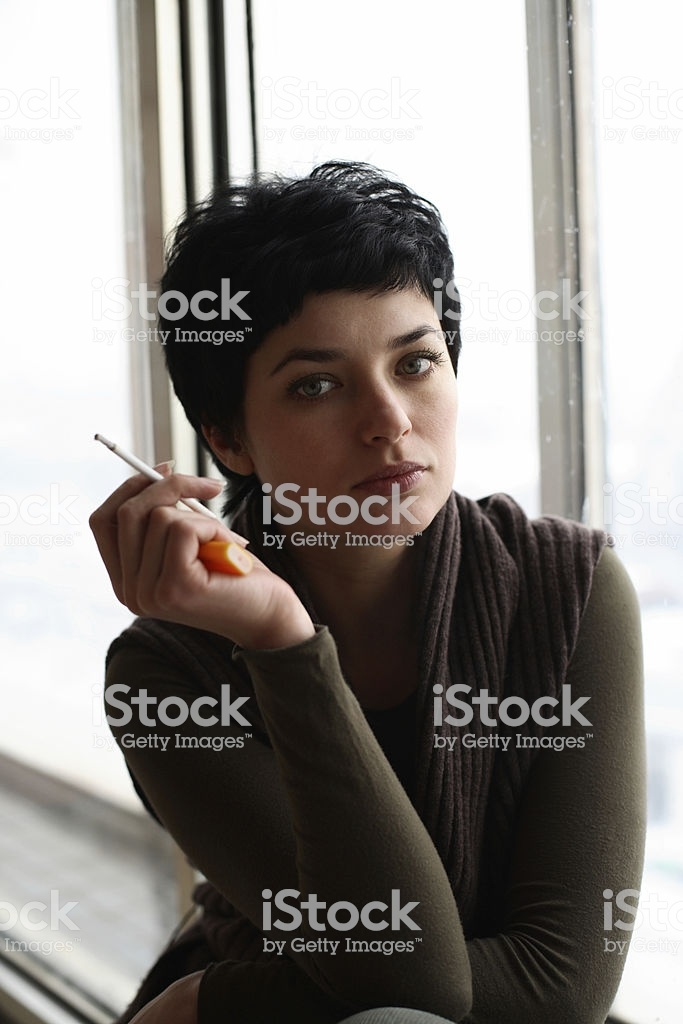sigaretta: (87, 428, 177, 497)
